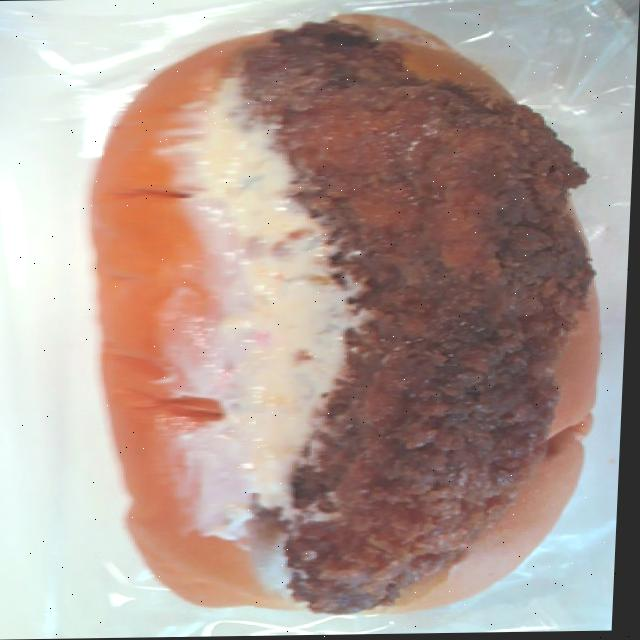三明治: (94, 37, 617, 633)
